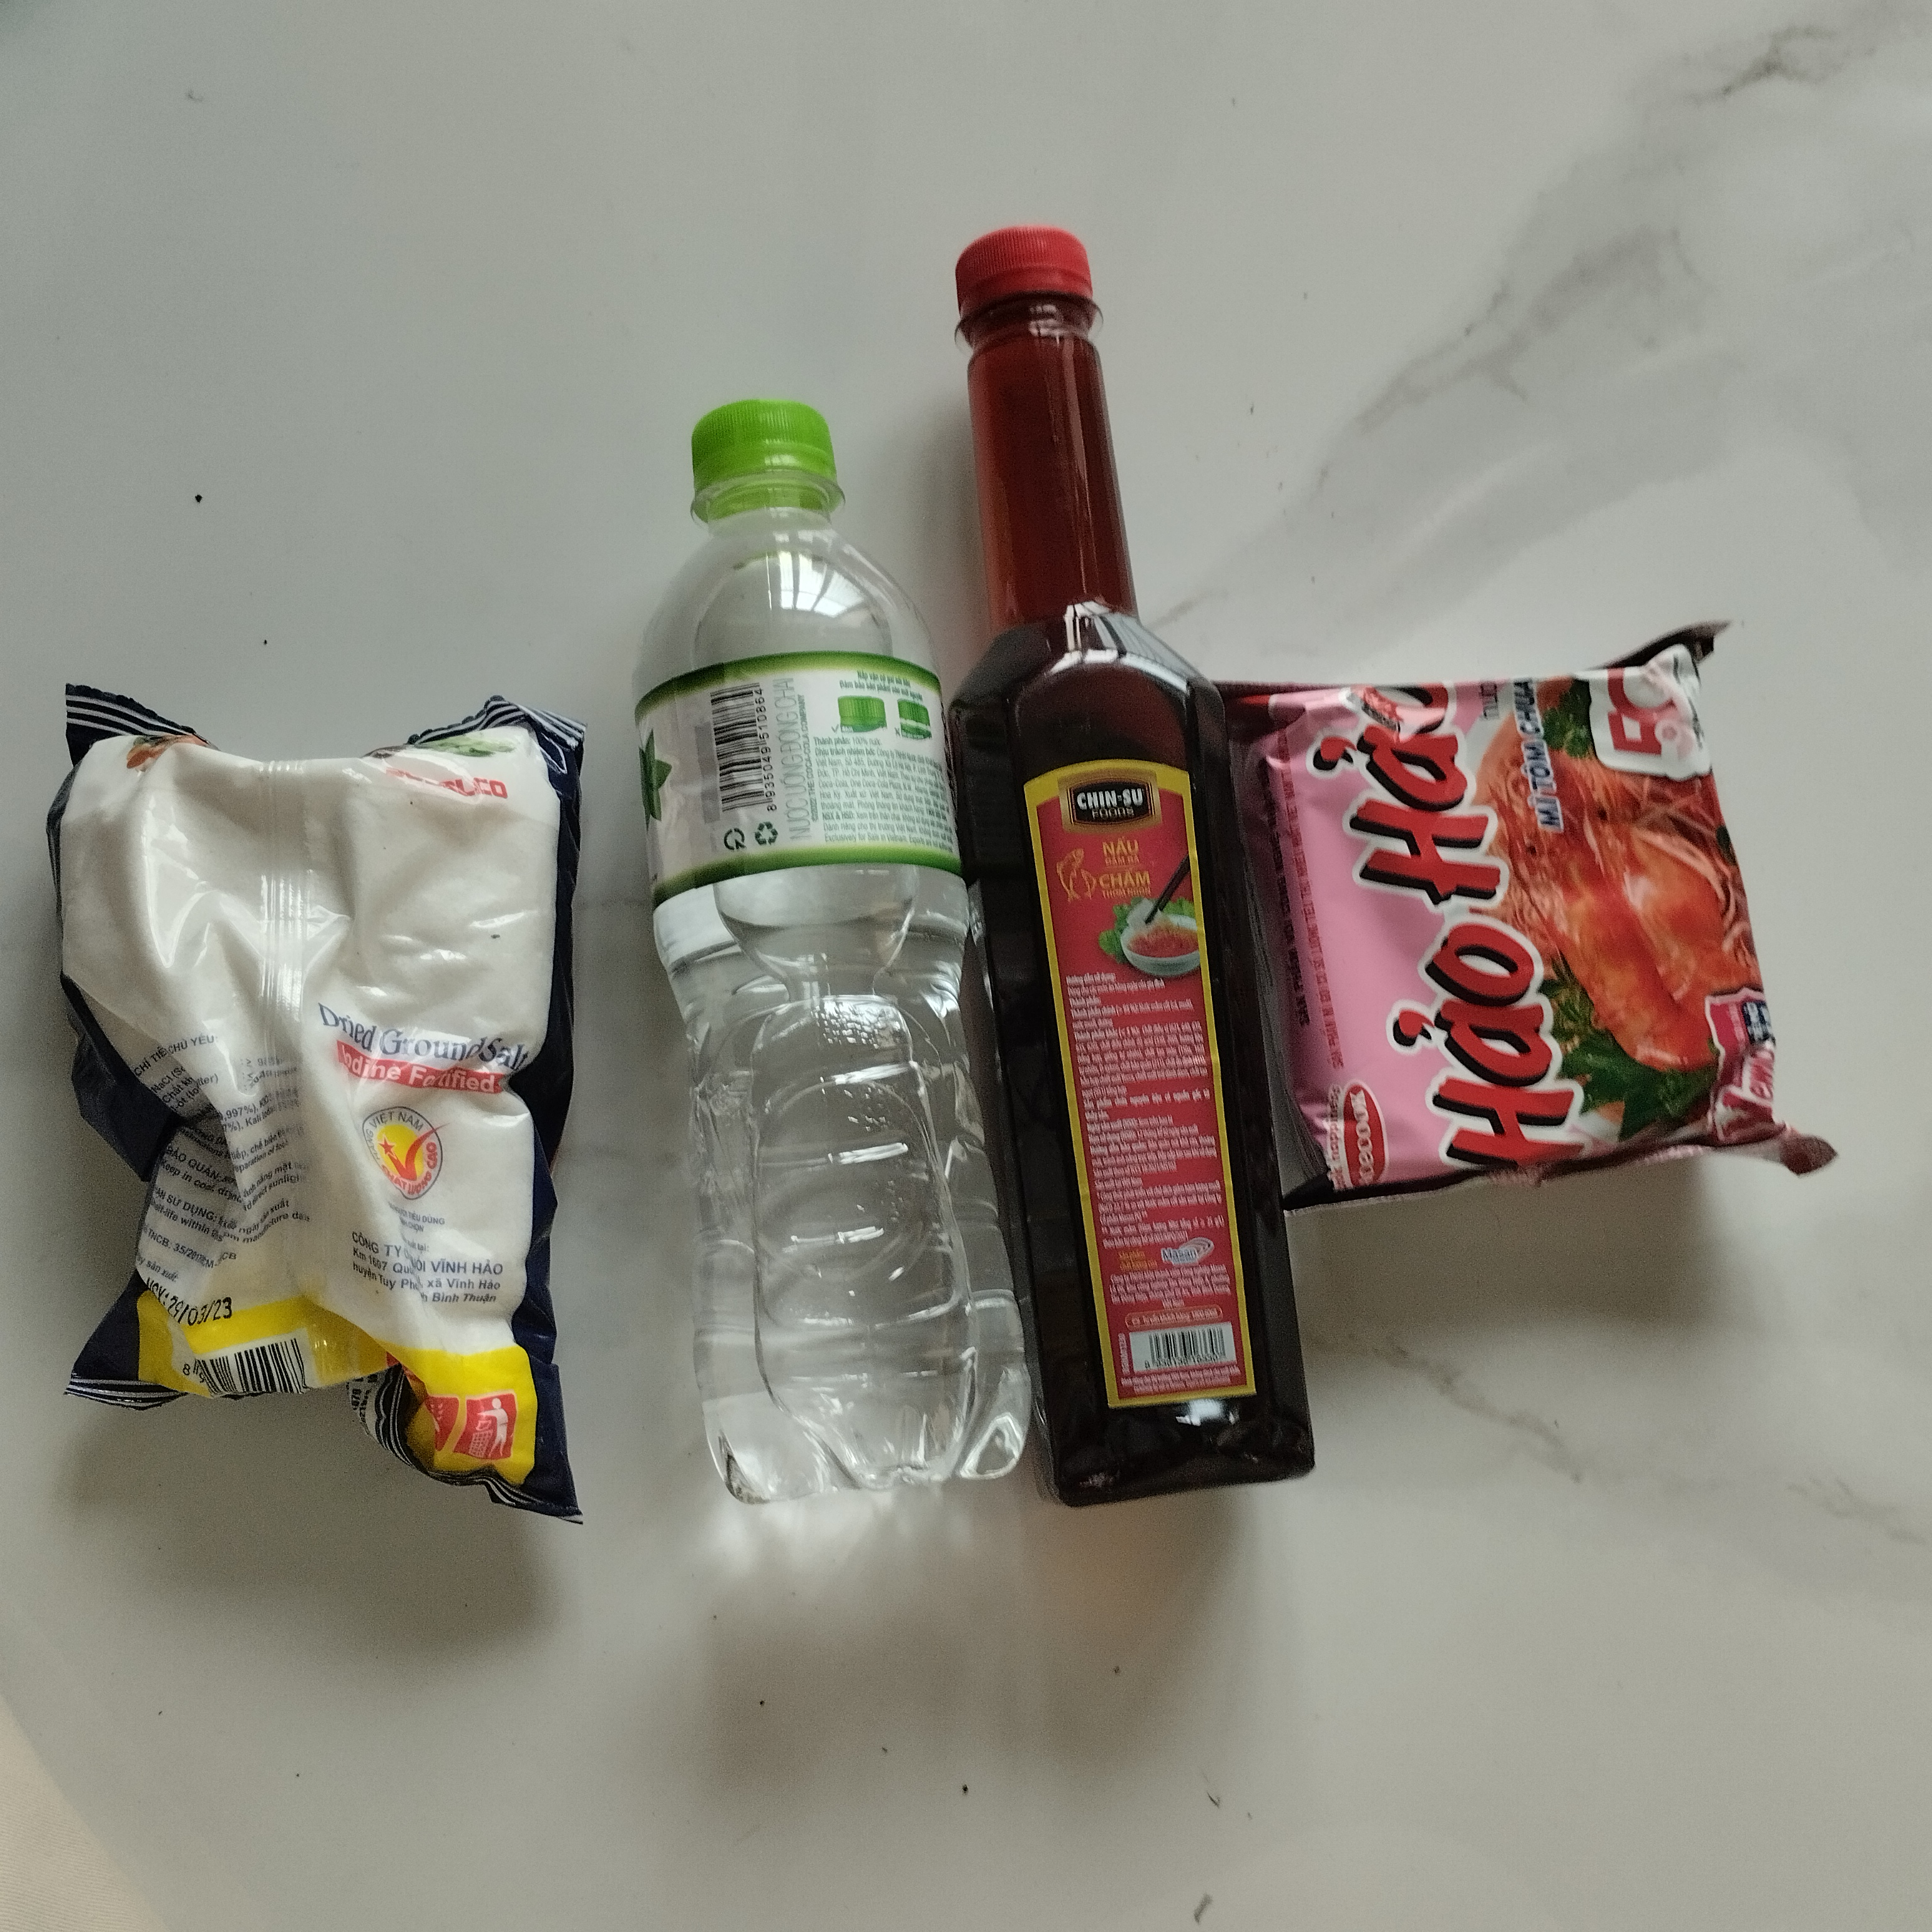Dasani: (633, 387, 1026, 1516)
Haohao: (1221, 617, 1835, 1261)
Namngu: (915, 219, 1322, 1520)
Salt: (41, 660, 616, 1553)
